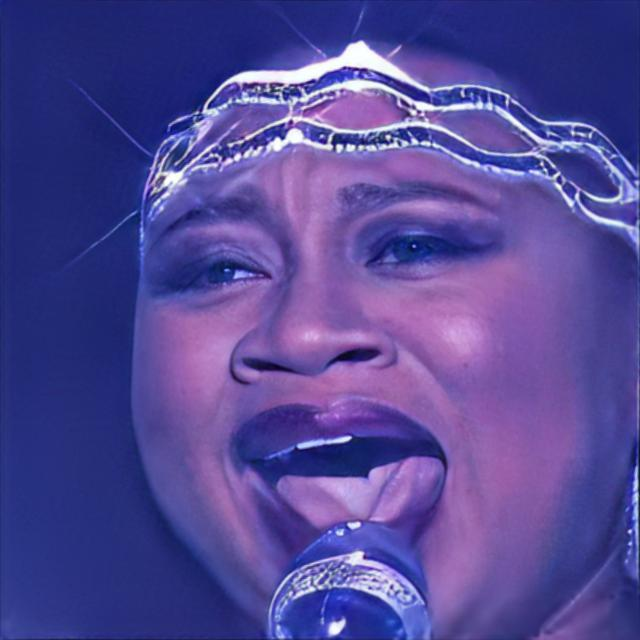surprise: (128, 39, 640, 640)
